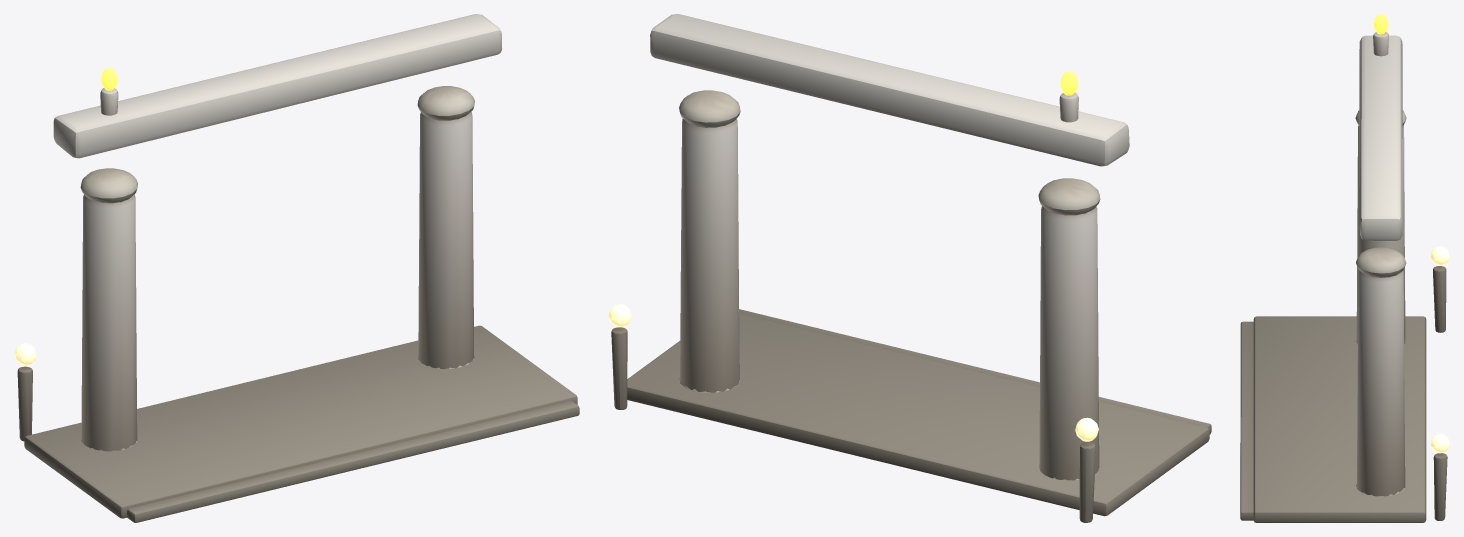
3 renders of one model, left to right at view 1: azimuth 30°, elevation 25°; view 2: azimuth 150°, elevation 25°; view 3: azimuth 270°, elevation 25°, orthographic. The views are drawn at different scales.
Parts seen in each view (by area): view 1: gate_44034a3f; view 2: gate_44034a3f; view 3: gate_44034a3f.
Boxes of the visible parts, x1,y1,x2,y2 form: gate_44034a3f: (14,14,579,522); gate_44034a3f: (608,14,1211,522); gate_44034a3f: (1240,14,1449,522).
Bounding box in the file's own units: 5.67 × 4.56 × 2.55.
